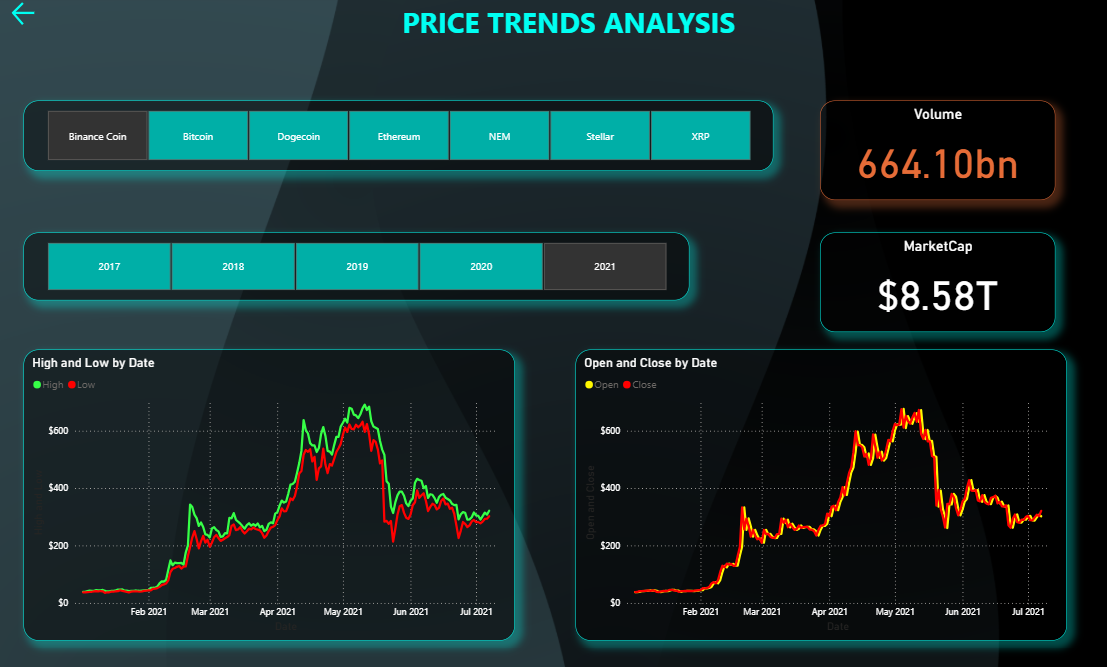

The dashboard page shown, as its layout file describes it:
{"tool":"powerbi","page":{"name":"Page 2","canvas":[1500,900],"ordinal":1},"visuals":[{"type":"slicer","fields":{"Values":["CryptoData_CSV.Name"]},"box":[41.8,141.5,993.8,93.3],"z":0},{"type":"slicer","fields":{"Values":["CryptoData_CSV.Year"]},"box":[41.8,316.8,882.8,90.1],"z":1000},{"type":"lineChart","fields":{"Y":["Sum(CryptoData_CSV.High)","Sum(CryptoData_CSV.Low)"],"Category":["CryptoData_CSV.Date"]},"box":[41.8,471.2,651.3,385.9],"z":2000},{"type":"actionButton","box":[20.9,6.4,41.8,40.2],"z":3000},{"type":"textbox","box":[538.7,6.4,749.4,64.3],"z":4000},{"type":"card","title":"MarketCap","fields":{"Values":["Sum(CryptoData_CSV.Marketcap)"]},"box":[1098.3,316.8,312,131.9],"z":5000},{"type":"card","title":"Volume","fields":{"Values":["Sum(CryptoData_CSV.Volume)"]},"box":[1098.3,141.5,312,131.9],"z":6000},{"type":"lineChart","fields":{"Category":["CryptoData_CSV.Date"],"Y":["Sum(CryptoData_CSV.Open)","Sum(CryptoData_CSV.Close)"]},"box":[773.5,471.2,651.3,385.9],"z":7000}]}

Visuals, with their boxes in screenshot pixels (x1, y1, x2, y2), scaled from the page's 1500x900 canvas onto the 1107x667 screenshot:
slicer - CryptoData_CSV.Name: 31/105/764/174
slicer - CryptoData_CSV.Year: 31/235/682/302
lineChart - Sum(CryptoData_CSV.High) x Sum(CryptoData_CSV.Low): 31/349/512/635
actionButton: 15/5/46/35
textbox: 398/5/951/52
"MarketCap" card: 811/235/1041/333
"Volume" card: 811/105/1041/203
lineChart - CryptoData_CSV.Date x Sum(CryptoData_CSV.Open): 571/349/1052/635
